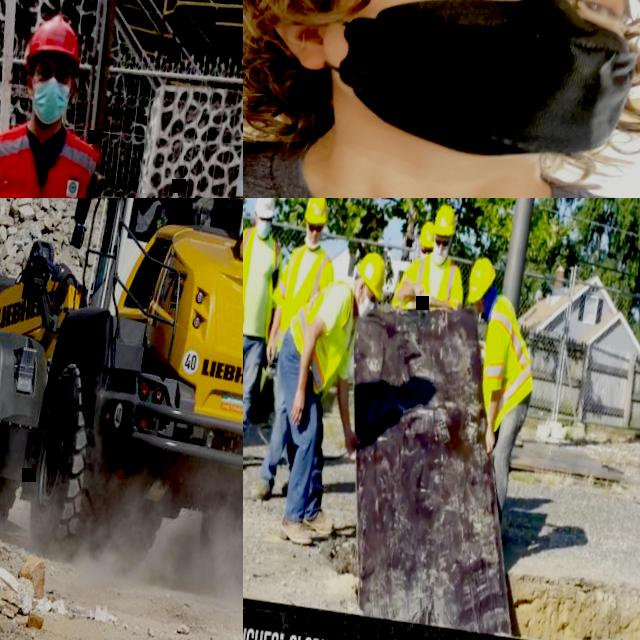Hardhat: (23, 10, 88, 65), (466, 255, 500, 306), (353, 250, 388, 298), (434, 203, 459, 238), (303, 198, 330, 224), (418, 220, 438, 250), (253, 198, 279, 220)
Mask: (280, 0, 640, 175), (24, 74, 74, 128), (355, 285, 376, 321), (430, 241, 450, 267), (254, 217, 272, 240), (420, 251, 428, 259)
NO-Safety Vest: (243, 112, 640, 198)
Person: (243, 0, 640, 198), (252, 238, 388, 553), (0, 2, 167, 198), (436, 255, 551, 531), (247, 198, 345, 495), (243, 198, 294, 471), (394, 198, 475, 317), (393, 219, 436, 310), (136, 198, 204, 248)
Safety Vest: (282, 272, 360, 401), (474, 294, 546, 431), (0, 114, 103, 198), (266, 240, 336, 356), (243, 223, 284, 334), (408, 253, 466, 312), (155, 202, 200, 237)
vehicle: (0, 198, 243, 597)
